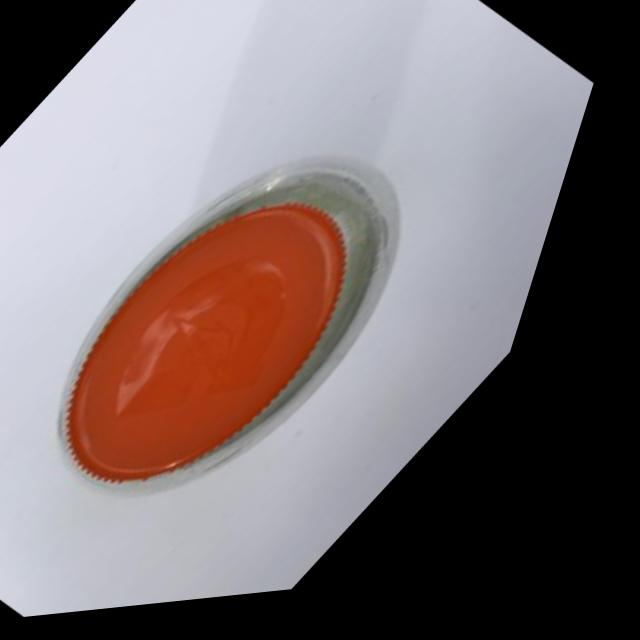plastic: (0, 41, 569, 609)
